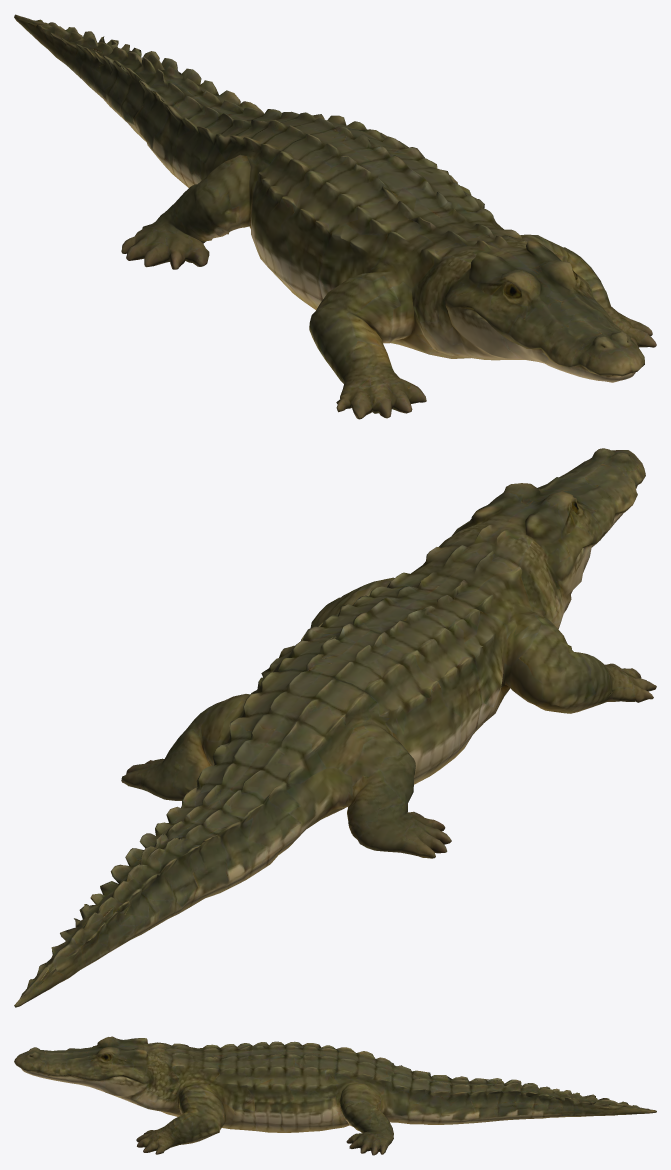
File: croc-chiroru.glb
3 renders of one model, top to bottom at view 1: azimuth 30°, elevation 25°; view 2: azimuth 150°, elevation 25°; view 3: azimuth 270°, elevation 25°, orthographic. The views are drawn at different scales.
Parts seen in each view (by area): view 1: geometry_0; view 2: geometry_0; view 3: geometry_0.
Boxes of the visible parts, box(x1,y1,x2,y2) form: geometry_0: box(14, 14, 656, 419); geometry_0: box(14, 448, 656, 1007); geometry_0: box(14, 1036, 656, 1155).
Size of the model in its own units: 0.2866 by 0.1196 by 0.9565.
Materials: 1 (1 with a texture image).
